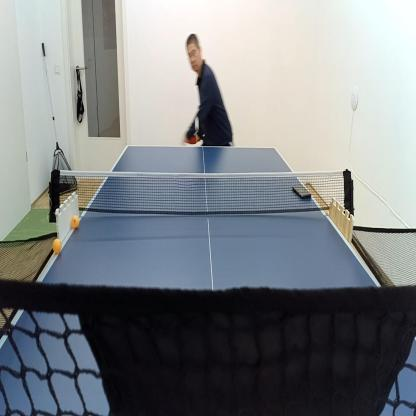Ball: (53, 239, 61, 253), (72, 215, 79, 228)
